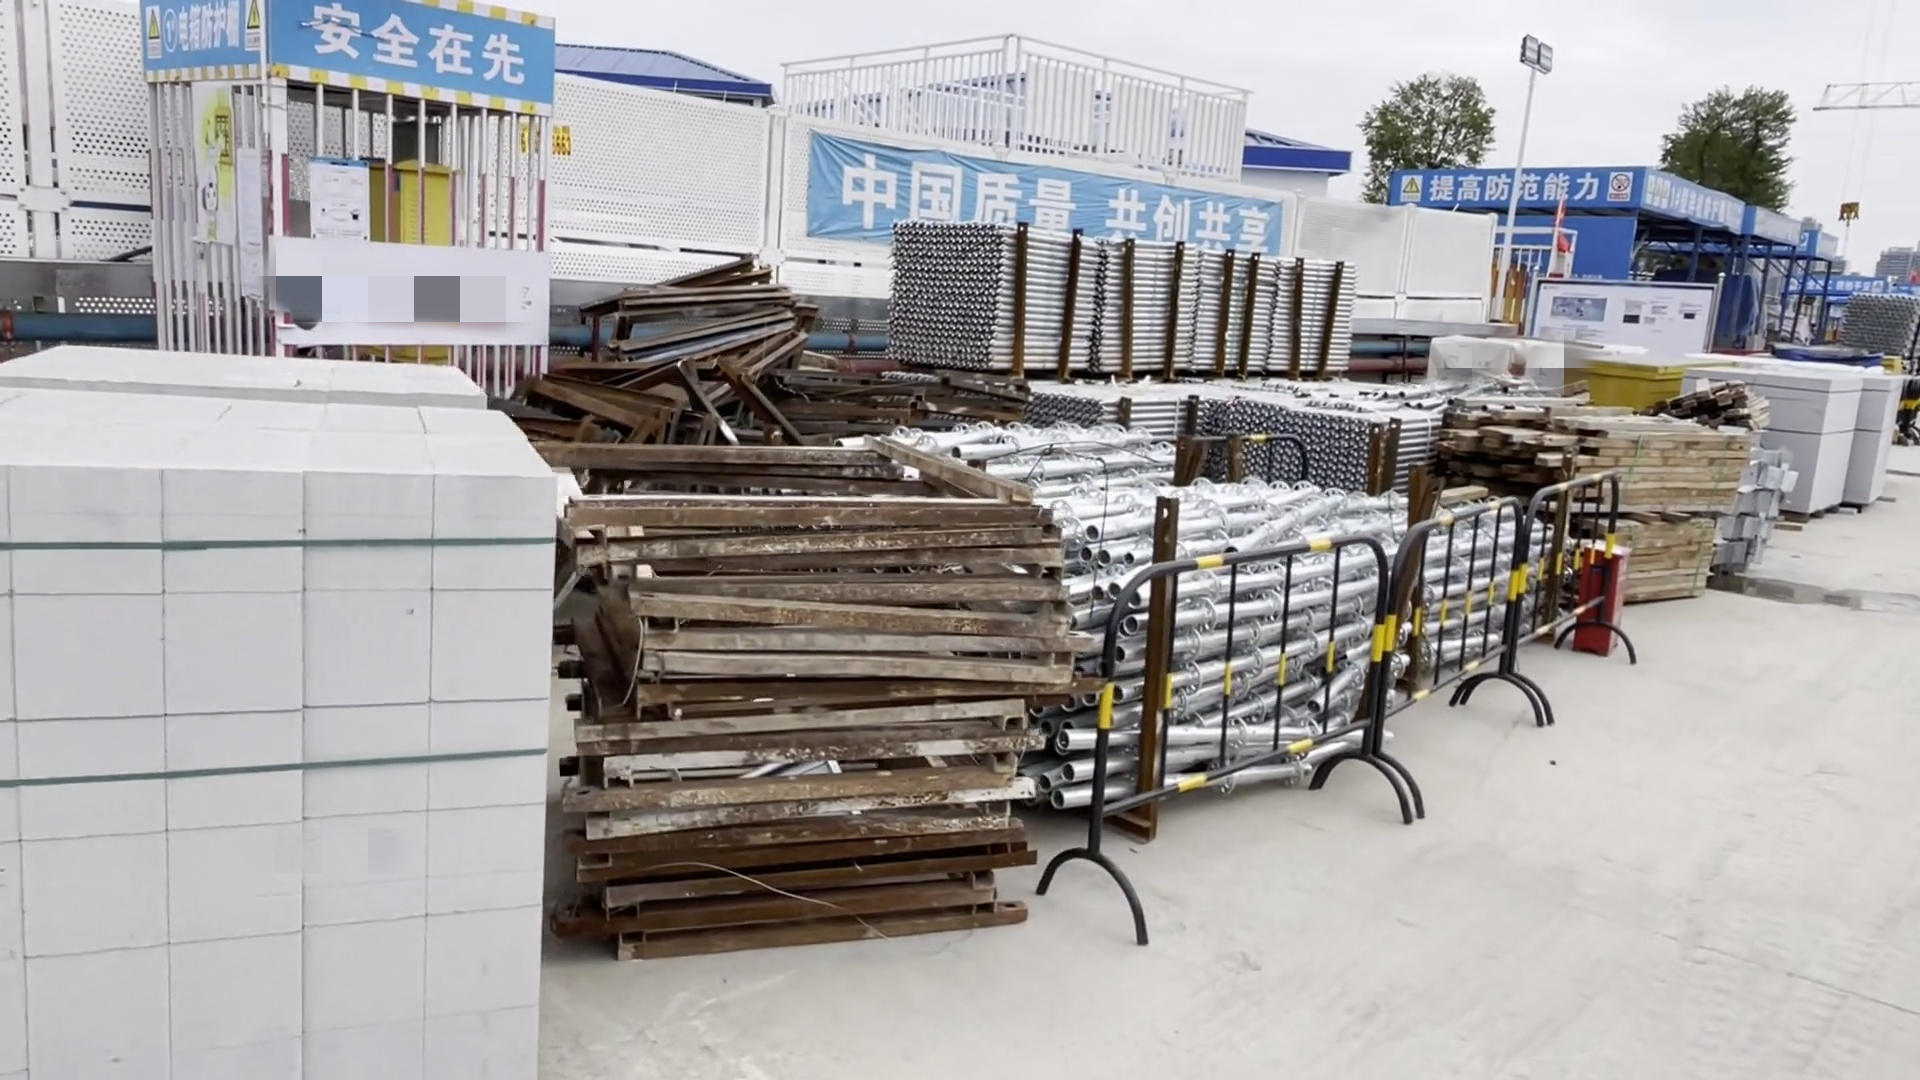brick: (4, 345, 562, 1080)
scaffold: (1002, 427, 1509, 783), (887, 222, 1362, 405)
slogan: (799, 125, 1282, 281), (128, 7, 575, 112), (1369, 156, 1782, 244)
